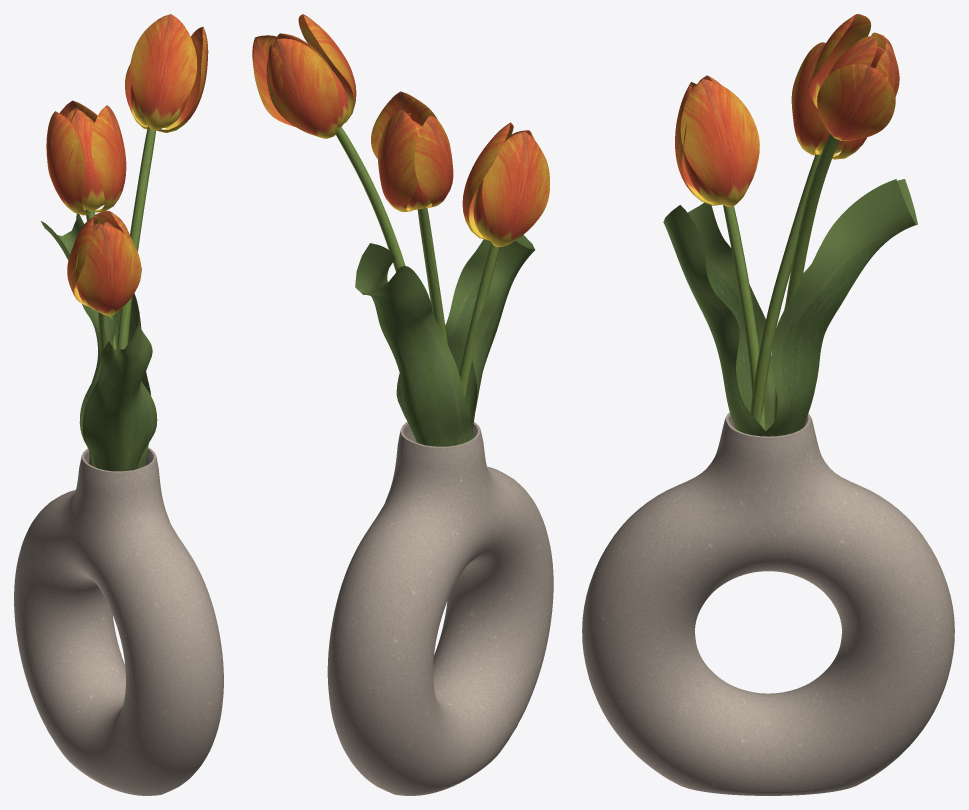
File: vase_with_flowers.glb
The picture shows the model from 3 angles, left to right: view 1: azimuth 30°, elevation 25°; view 2: azimuth 150°, elevation 25°; view 3: azimuth 270°, elevation 25°; orthographic projection. The views are drawn at different scales.
Visible parts, largest first — view 1: Object_18, Object_15, Object_17, Object_16; view 2: Object_18, Object_15, Object_17, Object_16; view 3: Object_18, Object_17, Object_15, Object_16.
Boxes of the visible parts, bbox=[...] form: Object_18: bbox=[14, 447, 223, 795]; Object_15: bbox=[46, 14, 208, 315]; Object_17: bbox=[41, 213, 157, 471]; Object_16: bbox=[85, 126, 155, 365]; Object_18: bbox=[327, 422, 553, 795]; Object_15: bbox=[252, 14, 549, 247]; Object_17: bbox=[355, 235, 534, 446]; Object_16: bbox=[336, 127, 499, 400]; Object_18: bbox=[582, 412, 954, 795]; Object_17: bbox=[663, 179, 917, 436]; Object_15: bbox=[675, 14, 899, 207]; Object_16: bbox=[723, 133, 839, 431].
Bounding box in the file's own units: 7.14 × 23.85 × 9.9.
4 materials, 4 textured.
